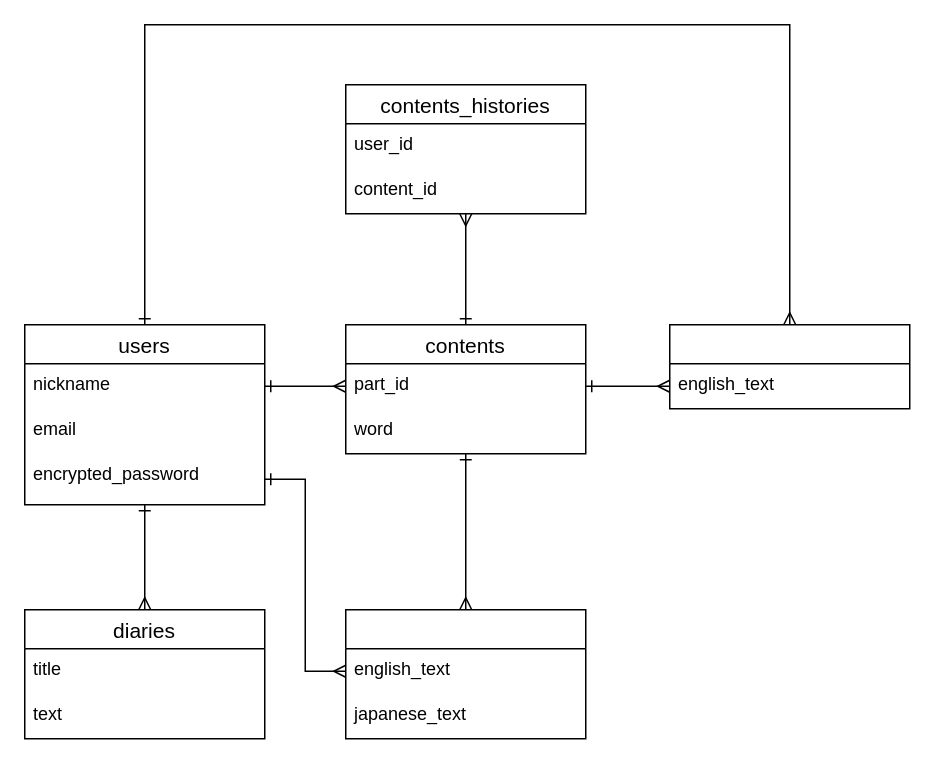
Some shapes in this 935 by 764 pixel diagram are drawn without their labels. Each missing label, with the box of its shape:
descriptions: (668, 323, 910, 409)
sentences: (344, 608, 586, 739)
